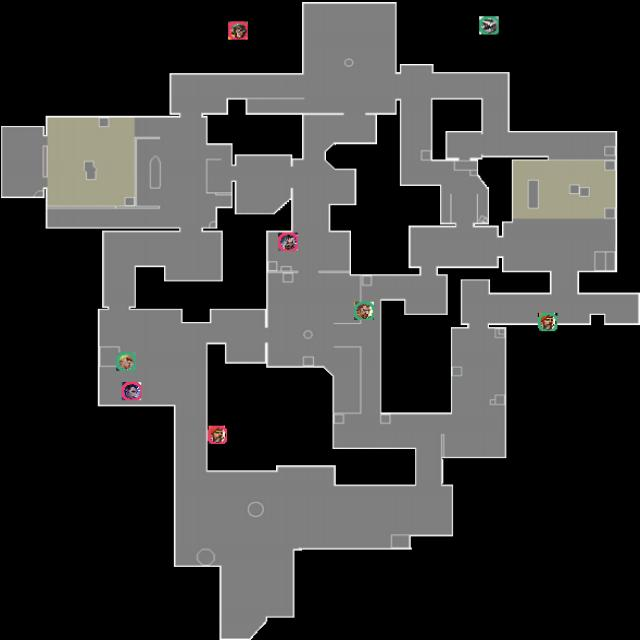atk_brimstone: (208, 426, 227, 444)
atk_fade: (278, 233, 298, 251)
atk_killjoy: (228, 21, 248, 40)
atk_yoru: (122, 382, 141, 400)
def_breach: (354, 302, 374, 320)
def_brimstone: (538, 313, 557, 331)
def_cypher: (479, 16, 499, 35)
def_gekko: (116, 352, 136, 371)
